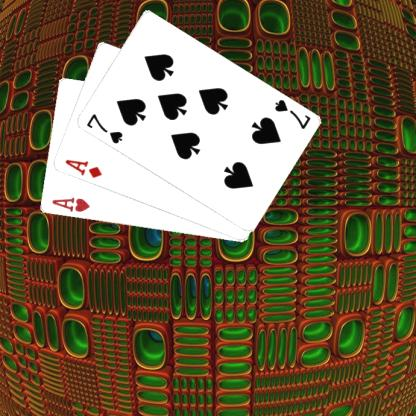7S: (271, 96, 312, 131), (83, 111, 124, 145)
AD: (62, 156, 103, 180)
AH: (49, 195, 91, 214)
